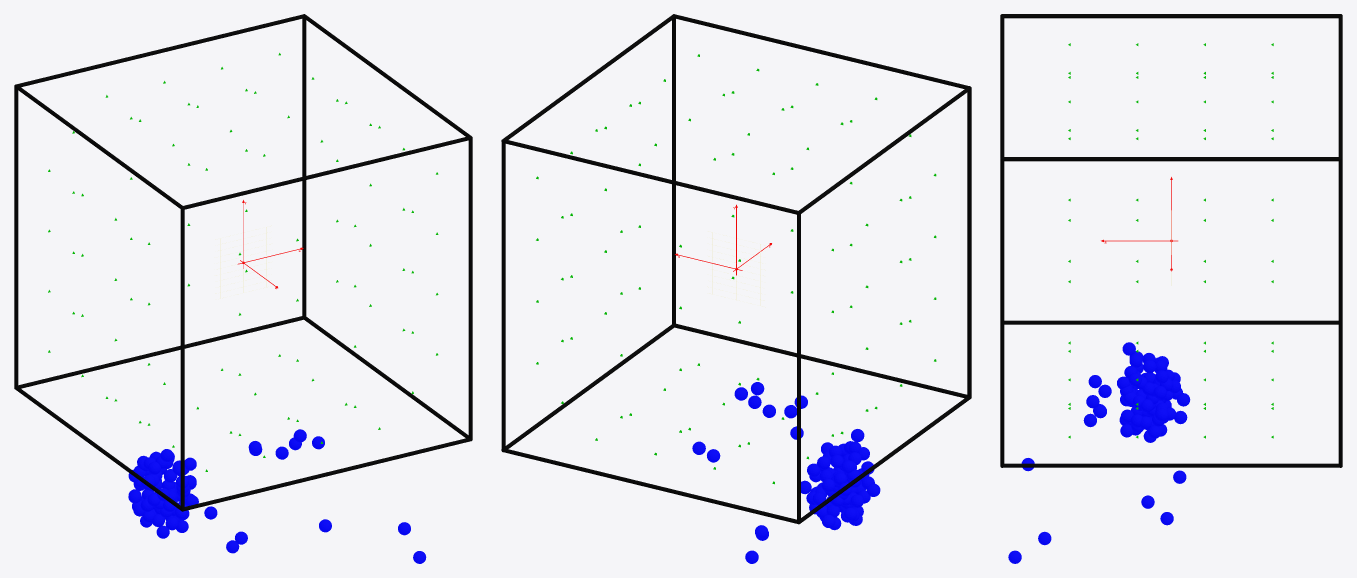
File: TryLiquid4.glb
The picture shows the model from 3 angles, left to right: view 1: azimuth 30°, elevation 25°; view 2: azimuth 150°, elevation 25°; view 3: azimuth 270°, elevation 25°; orthographic projection. The views are drawn at different scales.
Size of the model in its own units: 5.06 by 7.26 by 5.06.
